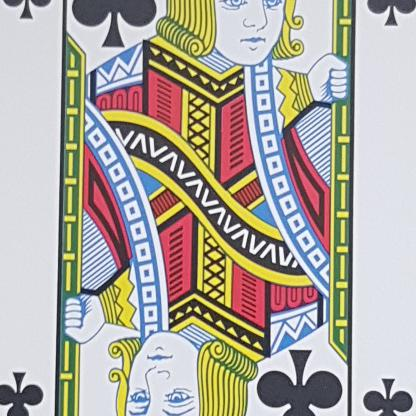Jc: (343, 360, 415, 415), (0, 356, 65, 415), (0, 0, 65, 41), (357, 0, 415, 45)
